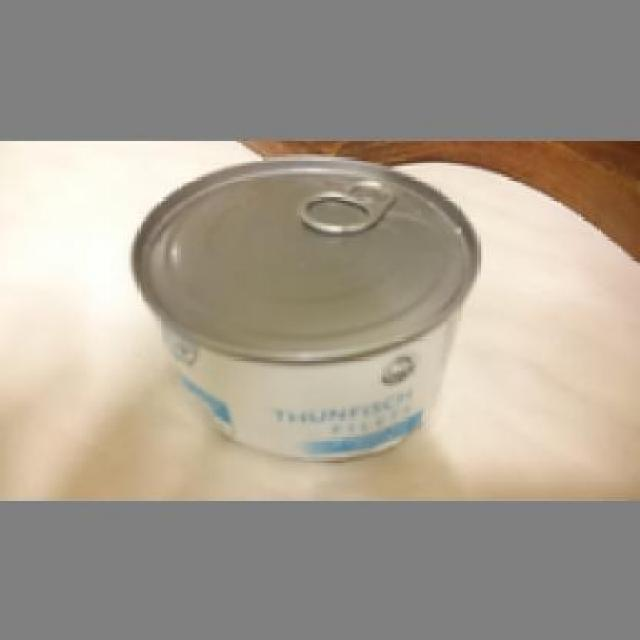Fish: (125, 151, 478, 460)
